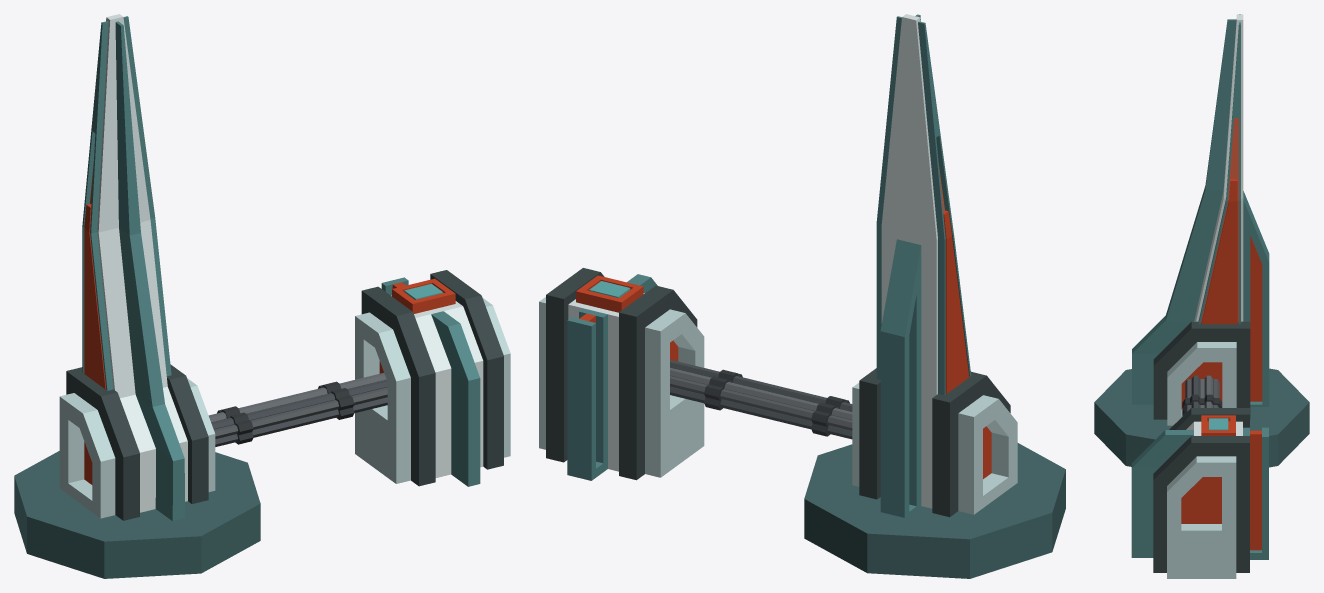
The model's file is TP_Sci-fi03.fbx.
3 renders of one model, left to right at view 1: azimuth 30°, elevation 25°; view 2: azimuth 150°, elevation 25°; view 3: azimuth 270°, elevation 25°, orthographic. The views are drawn at different scales.
Parts seen in each view (by area): view 1: TP_Sci_fi03; view 2: TP_Sci_fi03; view 3: TP_Sci_fi03.
Boxes of the visible parts, x1,y1,x2,y2 form: TP_Sci_fi03: [14, 14, 510, 578]; TP_Sci_fi03: [539, 14, 1065, 578]; TP_Sci_fi03: [1094, 14, 1309, 578].
Size of the model in its own units: 364 by 370 by 174.
Materials: 1 (1 with a texture image).
